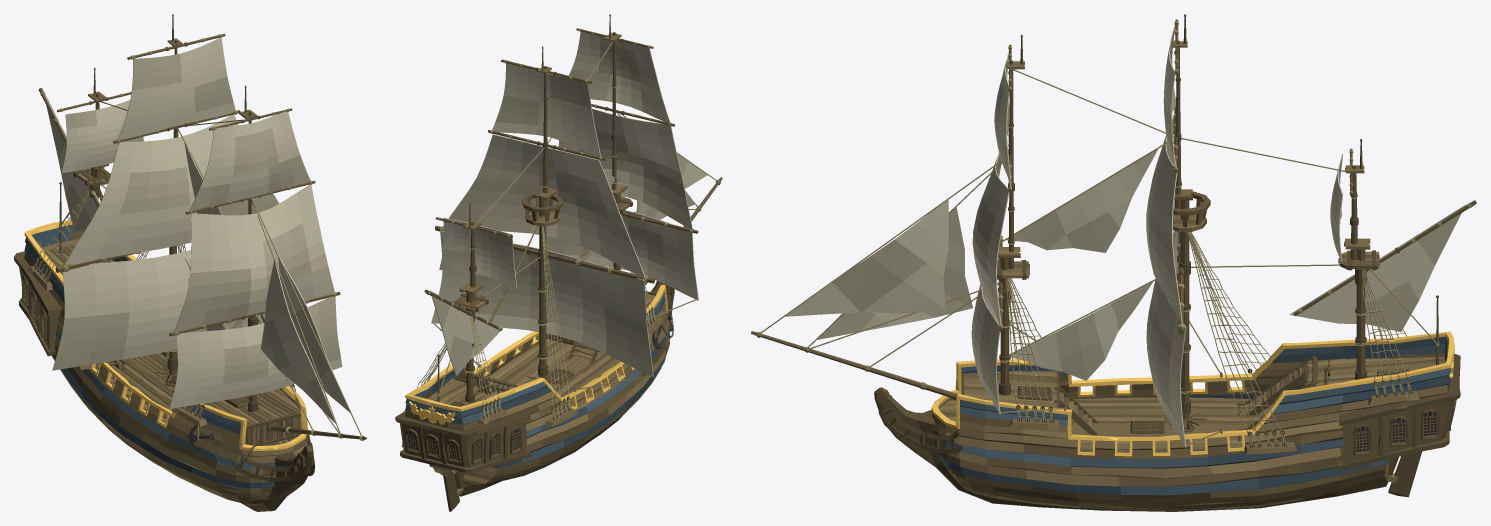
Rendered from LargeShip_1.fbx.
3 views of the same model, side by side, from view 1: azimuth 30°, elevation 25°; view 2: azimuth 150°, elevation 25°; view 3: azimuth 270°, elevation 25° (orthographic). The views are drawn at different scales.
Visible parts, largest first — view 1: LargeShip_1_Sails4, LargeShip_1, LargeShip_1_Sails2, LargeShip_1_Sails1, LargeShip_1_Sails5, LargeShip_1_Mast2, LargeShip_1_Mast1, LargeShip_1_Mast3, LargeShip_1_Sails3; view 2: LargeShip_1_Sails4, LargeShip_1, LargeShip_1_Sails2, LargeShip_1_Sails5, LargeShip_1_Mast2, LargeShip_1_Mast3, LargeShip_1_Mast1, LargeShip_1_Sails1; view 3: LargeShip_1, LargeShip_1_Sails1, LargeShip_1_Sails3, LargeShip_1_Sails4, LargeShip_1_Sails5, LargeShip_1_Sails2, LargeShip_1_Mast2, LargeShip_1_Mast3, LargeShip_1_Mast1.
Boxes of the visible parts, bbox=[...] form: LargeShip_1_Sails4: bbox=[52, 37, 278, 370]; LargeShip_1: bbox=[14, 100, 366, 511]; LargeShip_1_Sails2: bbox=[169, 111, 342, 408]; LargeShip_1_Sails1: bbox=[261, 256, 349, 423]; LargeShip_1_Sails5: bbox=[44, 95, 143, 231]; LargeShip_1_Mast2: bbox=[55, 14, 240, 386]; LargeShip_1_Mast1: bbox=[169, 85, 340, 412]; LargeShip_1_Mast3: bbox=[38, 67, 131, 263]; LargeShip_1_Sails3: bbox=[184, 143, 227, 330]; LargeShip_1_Sails4: bbox=[431, 63, 653, 377]; LargeShip_1: bbox=[395, 42, 722, 511]; LargeShip_1_Sails2: bbox=[546, 31, 698, 300]; LargeShip_1_Sails5: bbox=[430, 217, 517, 375]; LargeShip_1_Mast2: bbox=[435, 46, 654, 384]; LargeShip_1_Mast3: bbox=[424, 202, 512, 402]; LargeShip_1_Mast1: bbox=[576, 14, 698, 270]; LargeShip_1_Sails1: bbox=[636, 154, 707, 219]; LargeShip_1: bbox=[751, 69, 1460, 511]; LargeShip_1_Sails1: bbox=[785, 199, 972, 339]; LargeShip_1_Sails3: bbox=[1006, 148, 1158, 380]; LargeShip_1_Sails4: bbox=[1146, 25, 1186, 447]; LargeShip_1_Sails5: bbox=[1289, 154, 1465, 331]; LargeShip_1_Sails2: bbox=[971, 50, 1011, 413]; LargeShip_1_Mast2: bbox=[1164, 14, 1210, 432]; LargeShip_1_Mast3: bbox=[1293, 138, 1476, 379]; LargeShip_1_Mast1: bbox=[997, 34, 1029, 395].
Size of the model in its own units: 2093 by 3684 by 4876.
